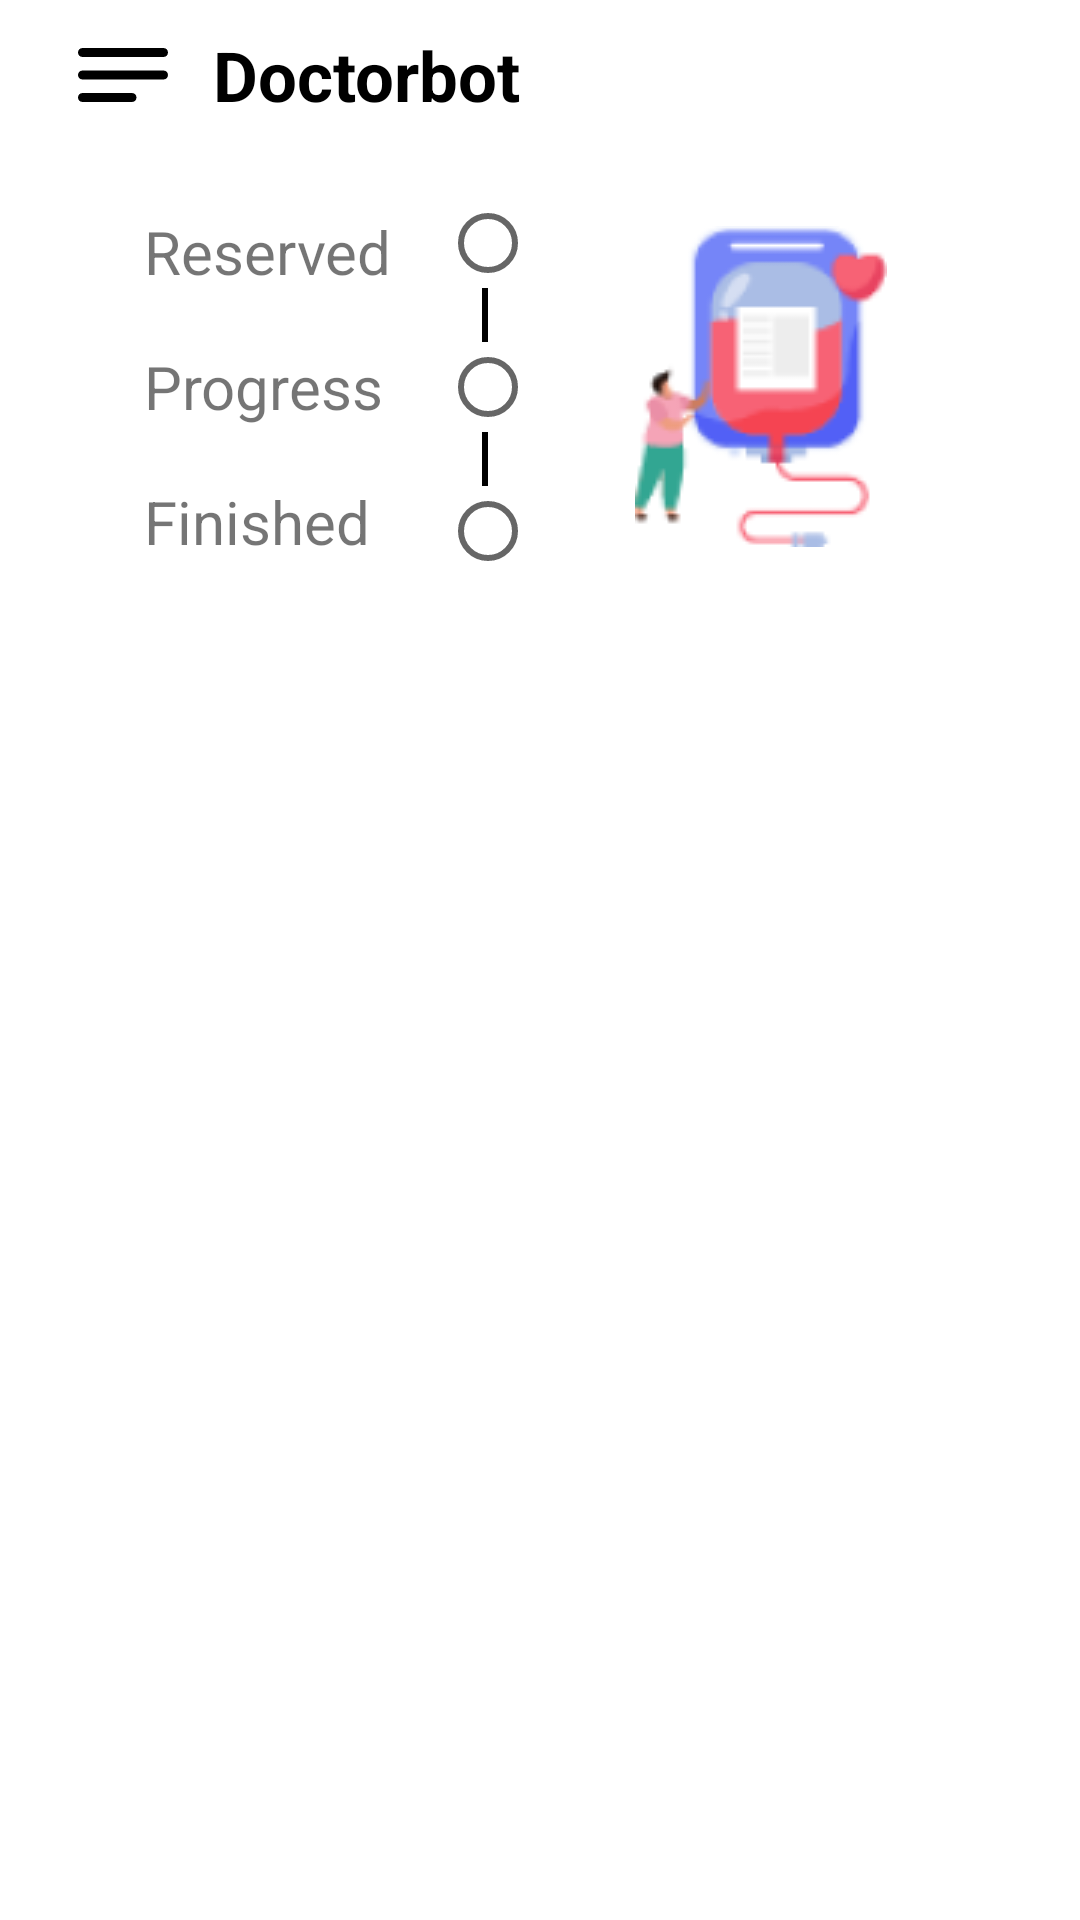

Locate icon controls on the screen. Image size 1080x1920, boxes as (x1, y1, x2, y2).
analize: (635, 228, 887, 547)
menu: (78, 48, 168, 102)
